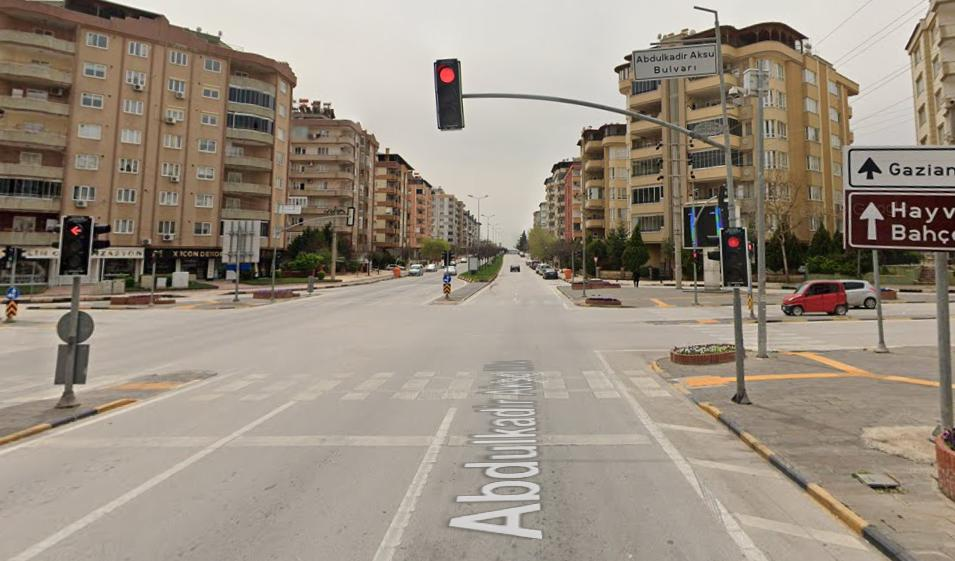redlight: (435, 58, 466, 128), (58, 212, 88, 275), (720, 224, 745, 292)
